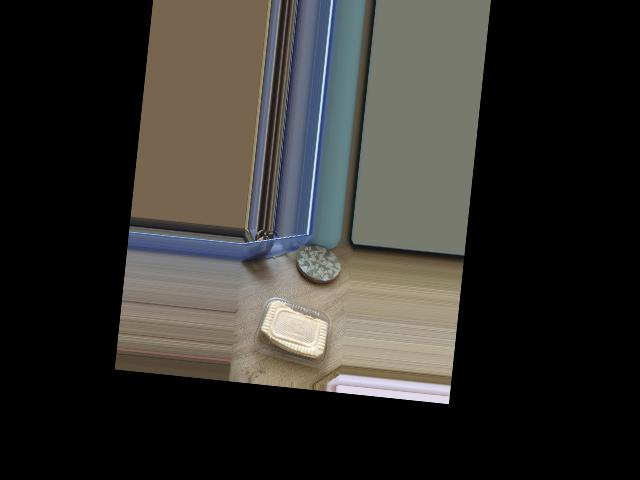cheese: (256, 291, 344, 386)
